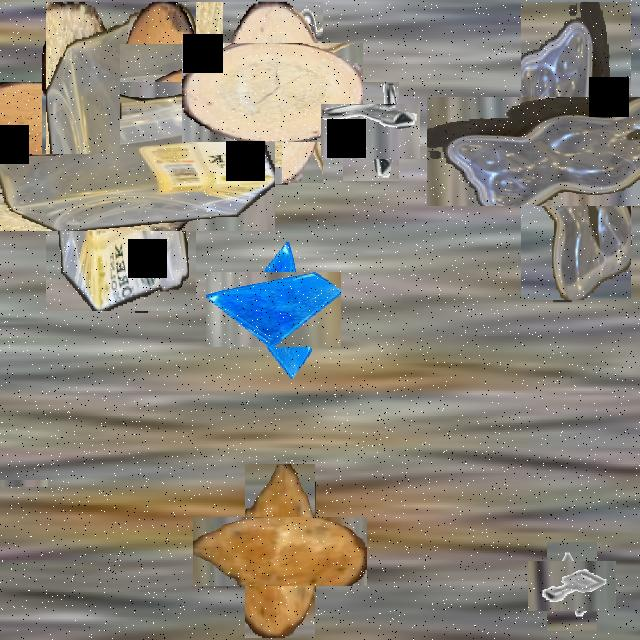glass: (221, 257, 327, 362)
metal: (190, 2, 252, 112), (332, 93, 410, 170), (537, 552, 607, 621), (0, 459, 27, 507)
plastic: (6, 42, 236, 271), (474, 48, 640, 253)
wood: (79, 23, 261, 205), (203, 22, 343, 163), (219, 490, 341, 612), (42, 2, 120, 154)
